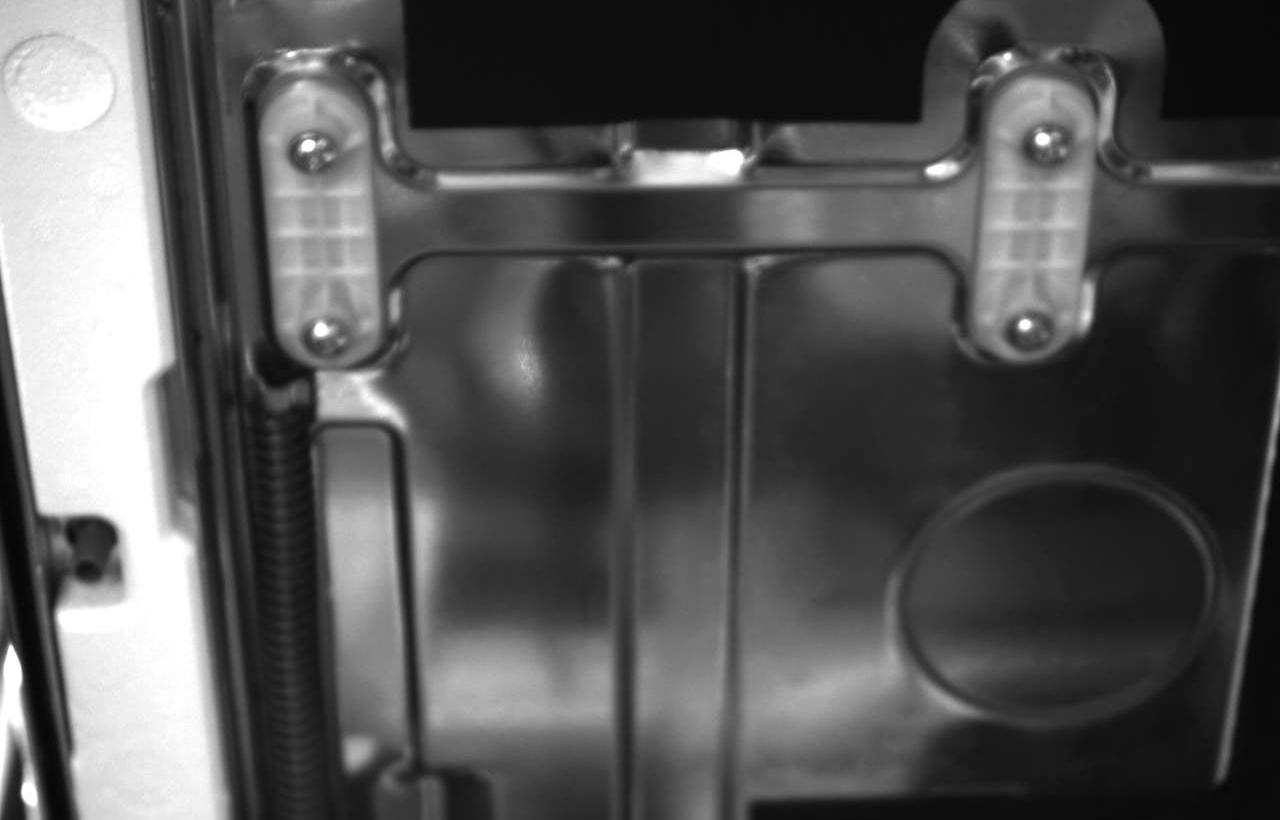vida-ok: (264, 114, 350, 192), (994, 106, 1082, 179), (287, 301, 367, 365), (997, 303, 1072, 362)
